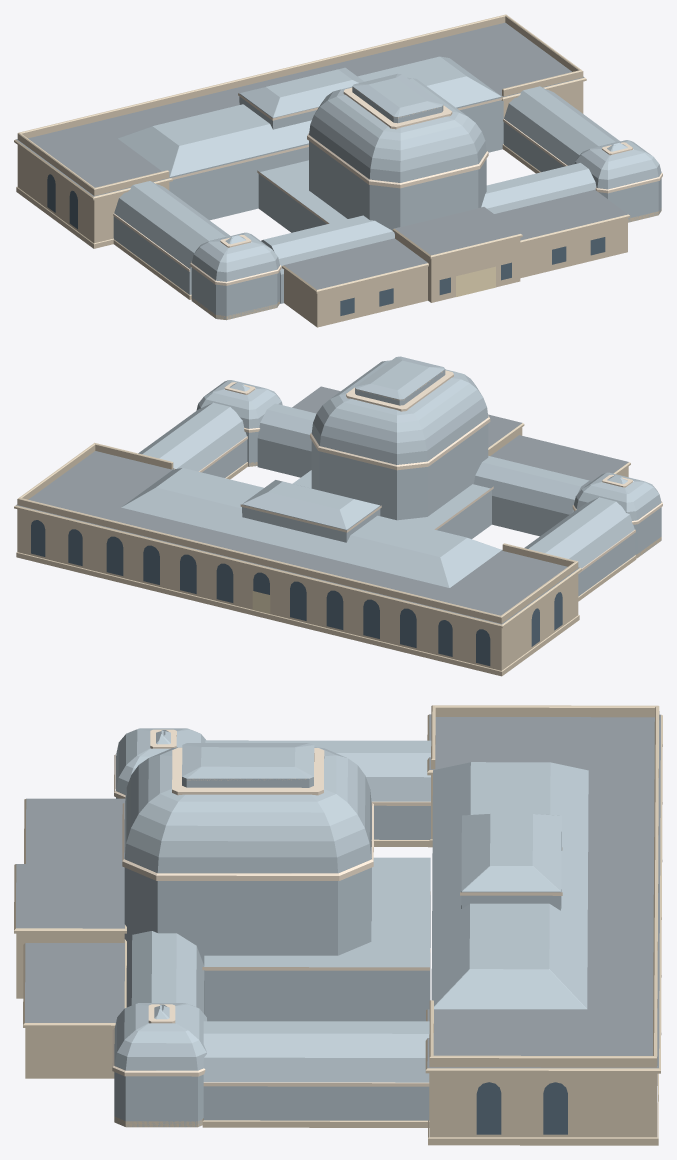
Rendered from detail.glb.
3 renders of one model, top to bottom at view 1: azimuth 30°, elevation 25°; view 2: azimuth 150°, elevation 25°; view 3: azimuth 270°, elevation 25°, orthographic. The views are drawn at different scales.
Parts seen in each view (by area): view 1: united-states-botanic-garden-conservatory; view 2: united-states-botanic-garden-conservatory; view 3: united-states-botanic-garden-conservatory.
Boxes of the visible parts, x1,y1,x2,y2 form: united-states-botanic-garden-conservatory: (14, 14, 662, 327); united-states-botanic-garden-conservatory: (14, 356, 662, 676); united-states-botanic-garden-conservatory: (14, 705, 662, 1145).
Bounding box in the file's own units: 88.66 × 24.4 × 68.38.
